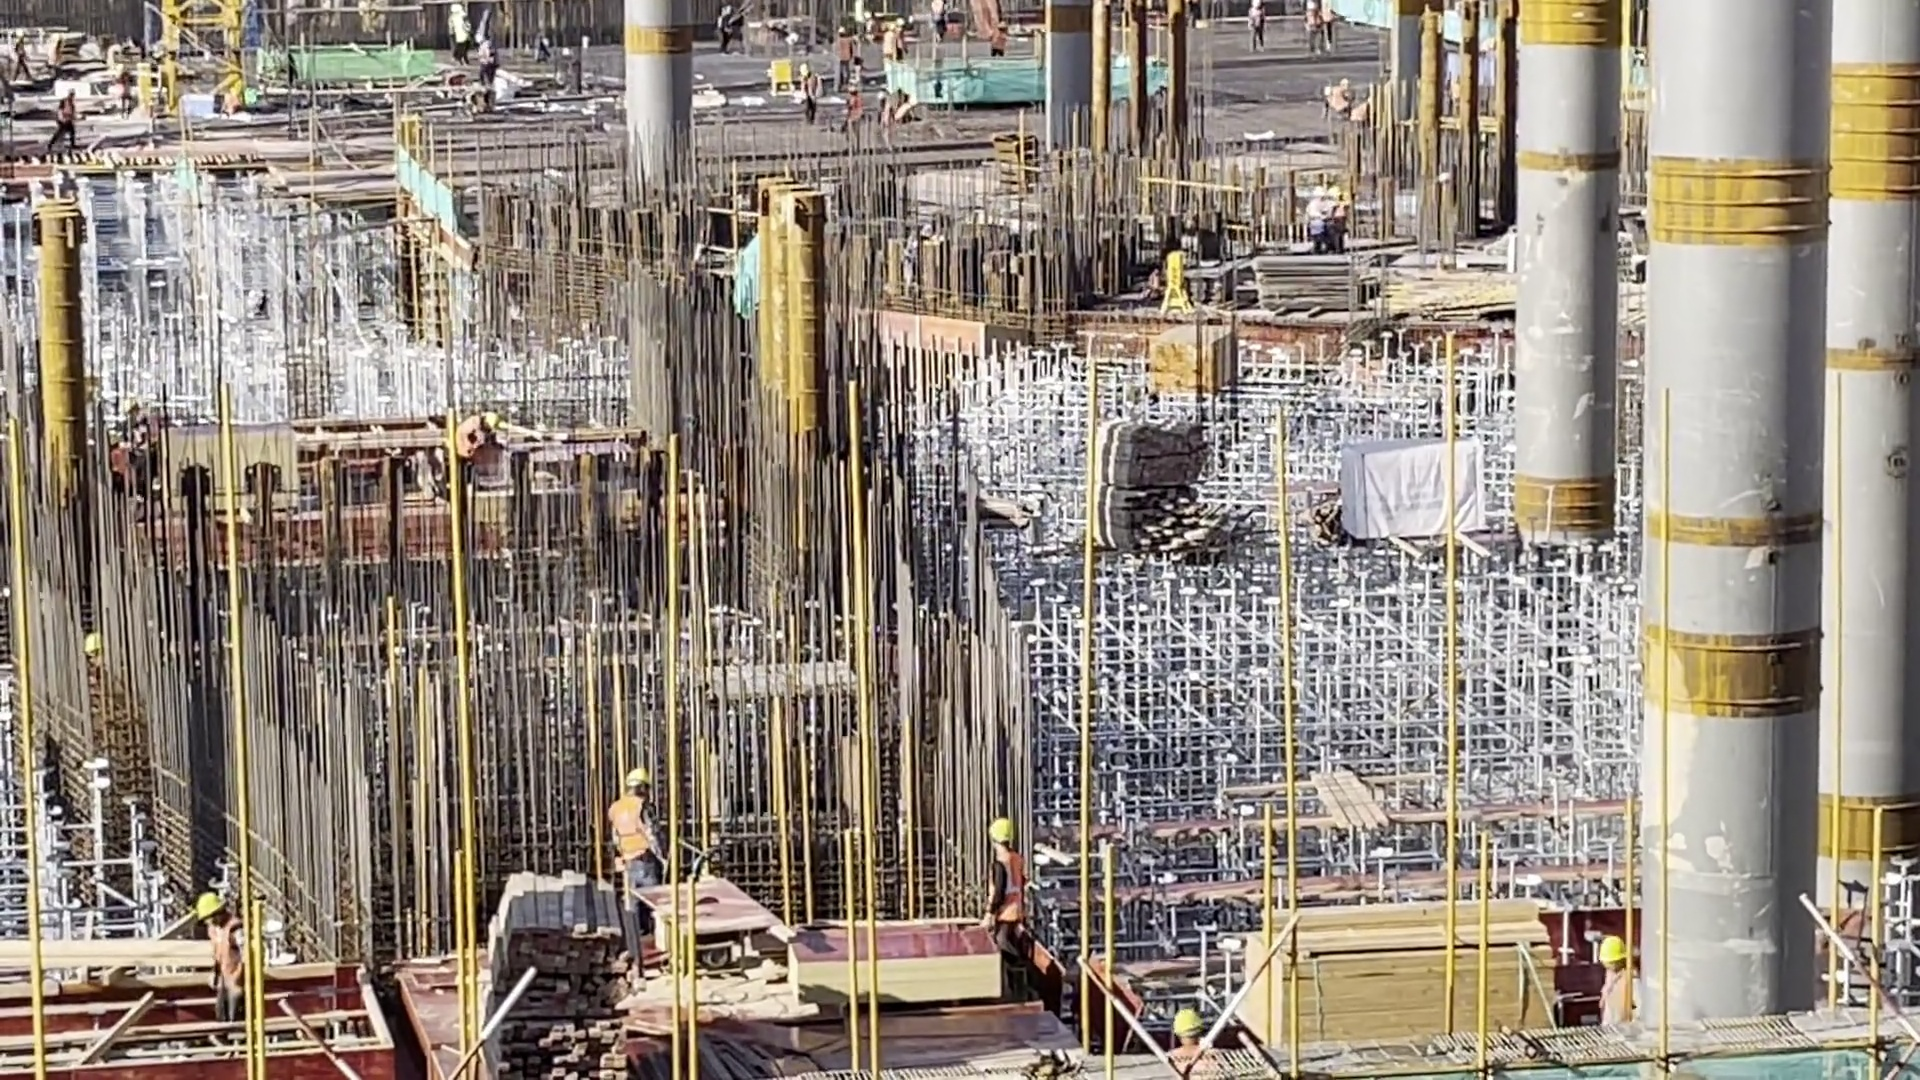helmet: (193, 893, 229, 921), (1170, 1009, 1202, 1034), (1599, 935, 1627, 963), (987, 816, 1014, 843), (626, 769, 652, 786), (482, 410, 499, 426), (1311, 186, 1325, 199), (1306, 2, 1315, 10)
person: (604, 767, 674, 945), (977, 812, 1036, 1000), (191, 890, 249, 1023), (1595, 930, 1644, 1026), (451, 402, 497, 486), (1158, 1005, 1215, 1060), (39, 88, 79, 151), (1301, 185, 1332, 254), (795, 61, 822, 126), (837, 83, 867, 138), (9, 25, 36, 86), (110, 62, 136, 120), (448, 2, 471, 68), (1331, 187, 1351, 254), (471, 28, 495, 85), (1246, 1, 1270, 53), (834, 26, 854, 83), (1304, 2, 1322, 58), (1320, 1, 1338, 53), (987, 21, 1014, 56), (713, 6, 732, 58), (43, 35, 65, 80), (1332, 76, 1351, 120), (895, 16, 911, 60), (881, 23, 898, 62), (1348, 99, 1369, 129)
vest: (608, 794, 656, 860), (987, 851, 1027, 923), (205, 921, 246, 989), (1306, 202, 1327, 237), (845, 95, 865, 124), (837, 37, 853, 61)
